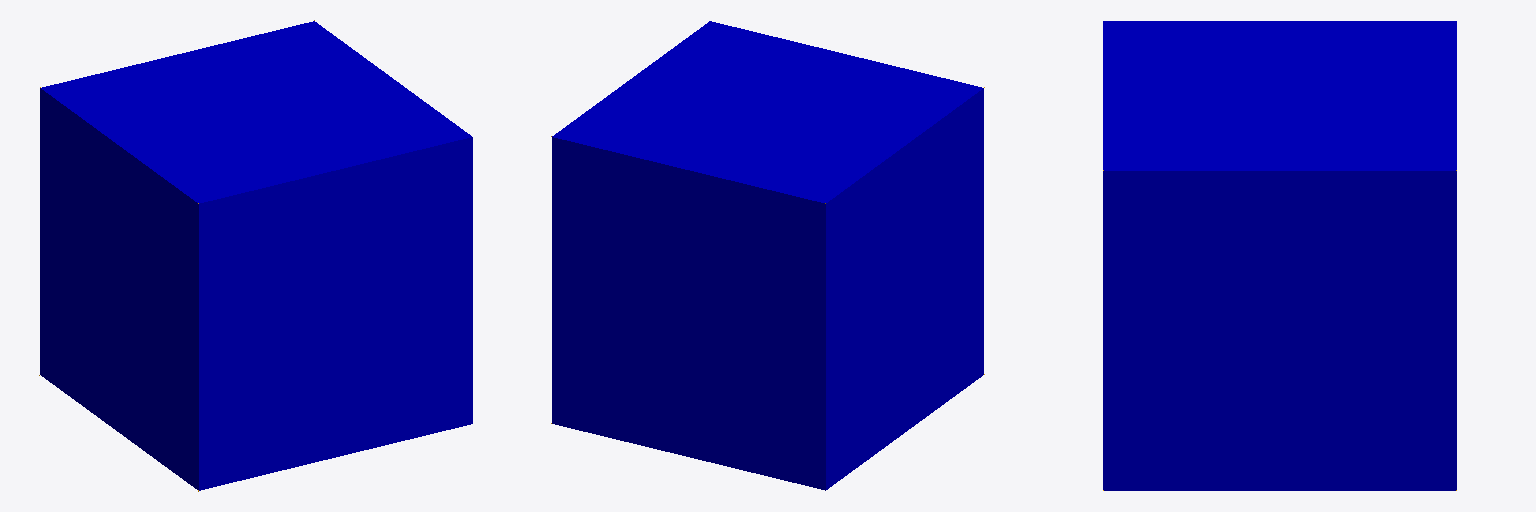
robot.urdf — box:
<?xml version="1.0" ?>
<robot name = "box">
  <material name="Black">
    <color rgba="0.0 0.0 0.0 1.0"/>
  </material>
  <material name="Blue">
    <color rgba="0.0 0.0 0.8 1.0"/>
  </material>
  <material name="Green">
    <color rgba="0.0 0.8 0.0 1.0"/>
  </material>
  <material name="Grey">
    <color rgba="0.4 0.4 0.4 1.0"/>
  </material>
  <material name="Orange">
    <color rgba="1.0 0.423529411765 0.0392156862745 1.0"/>
  </material>
  <material name="Brown">
    <color rgba="0.870588235294 0.811764705882 0.764705882353 1.0"/>
  </material>
  <material name="Red">
    <color rgba="0.8 0.0 0.0 1.0"/>
  </material>
  <material name="White">
    <color rgba="1.0 1.0 1.0 1.0"/>
  </material>
	<link name = "box">
		<inertial>
			<origin xyz="0 0 0"/>
			<mass value="1.27"/>
            <!-- I = (5/18)*M*a^2 -->
			<inertia ixx="0.1126" ixy="0" ixz="0" iyy="0.1126" iyz="0" izz="0.1126"/>
		</inertial>
	<visual>
		<origin rpy="0 0 0" xyz="0 0 0"/>
		<geometry>
			<box size="0.565 0.565 0.565"/>
		</geometry>
		<material name="Blue"/>
  </visual>

        <!--collision box-->

        <visual>
            <origin rpy="0 0 0" xyz="0 0 0.0"/>
            <geometry>
                <box size="0.56 0.56 0.56"/>
            </geometry>
        </visual>

	<collision>
		<origin rpy="0 0 0" xyz="0 0 0.0"/>
		<geometry>
			<box size="0.56 0.56 0.56"/>
		</geometry>
  </collision>

        <!--collision box-->

    <visual>
        <origin xyz="-0.2825 -0.2825 -0.2825" rpy="0 0 0"/>
        <geometry>
            <sphere radius="1e-3"/>
        </geometry>
    </visual>
  <collision>
    <origin xyz="-0.2825 -0.2825 -0.2825" rpy="0 0 0"/>
    <geometry>
      <sphere radius="1e-3"/>
    </geometry>
  </collision>

        <visual>
            <origin xyz="-0.285 0.2825 -0.2825" rpy="0 0 0"/>
            <geometry>
                <sphere radius="1e-3"/>
            </geometry>
        </visual>
  <collision>
    <origin xyz="-0.2825 0.2825 -0.2825" rpy="0 0 0"/>
    <geometry>
      <sphere radius="1e-3"/>
    </geometry>
  </collision>


        <visual>
            <origin xyz="0.2825 -0.2825 -0.2825" rpy="0 0 0"/>
            <geometry>
                <sphere radius="1e-3"/>
            </geometry>
        </visual>

  <collision>
    <origin xyz="0.2825 -0.2825 -0.2825" rpy="0 0 0"/>
    <geometry>
      <sphere radius="1e-3"/>
    </geometry>
  </collision>

  <visual>
    <origin xyz="0.2825 0.2825 -0.2825" rpy="0 0 0"/>
    <geometry>
        <sphere radius="1e-3"/>
    </geometry>
  </visual>
  <collision>
    <origin xyz="0.2825 0.2825 -0.2825" rpy="0 0 0"/>
    <geometry>
      <sphere radius="1e-3"/>
    </geometry>
  </collision>

<!--seperater-->
        <visual>
            <origin xyz="0.2825 0.2825 0.2825" rpy="0 0 0"/>
            <geometry>
                <sphere radius="1e-3"/>
            </geometry>
        </visual>
        <collision>
            <origin xyz="0.2825 0.2825 0.2825" rpy="0 0 0"/>
            <geometry>
                <sphere radius="1e-3"/>
            </geometry>
        </collision>

        <visual>
            <origin xyz="0.2825 -0.2825 0.2825" rpy="0 0 0"/>
            <geometry>
                <sphere radius="1e-3"/>
            </geometry>
        </visual>
        <collision>
            <origin xyz="0.2825 -0.2825 0.2825" rpy="0 0 0"/>
            <geometry>
                <sphere radius="1e-3"/>
            </geometry>
        </collision>

        <visual>
            <origin xyz="-0.2825 -0.2825 0.2825" rpy="0 0 0"/>
            <geometry>
                <sphere radius="1e-3"/>
            </geometry>
        </visual>
        <collision>
            <origin xyz="-0.2825 -0.2825 0.2825" rpy="0 0 0"/>
            <geometry>
                <sphere radius="1e-3"/>
            </geometry>
        </collision>

        <visual>
            <origin xyz="-0.2825 0.2825 0.2825" rpy="0 0 0"/>
            <geometry>
                <sphere radius="1e-3"/>
            </geometry>
        </visual>
        <collision>
            <origin xyz="-0.2825 0.2825 0.2825" rpy="0 0 0"/>
            <geometry>
                <sphere radius="1e-3"/>
            </geometry>
        </collision>

	</link>
</robot>

--- Facts derived from the render (not from the file) ---
Views: 3 orthographic renders of the robot side by side, from view 1: azimuth 30°, elevation 25°; view 2: azimuth 150°, elevation 25°; view 3: azimuth 270°, elevation 25°.
Model box with 1 links and 0 joints (none), rooted at box, posed every joint at zero.
Visible links, largest first — view 1: box; view 2: box; view 3: box.
Link boxes in pixels (<box>): box: <box>39,20,472,491</box>; box: <box>551,21,984,490</box>; box: <box>1103,21,1456,490</box>.
Bounding box of the posed robot: 0.5695 × 0.567 × 0.567 m (x, y, z).
Geometry: primitives only (box / cylinder / sphere), no mesh files.
